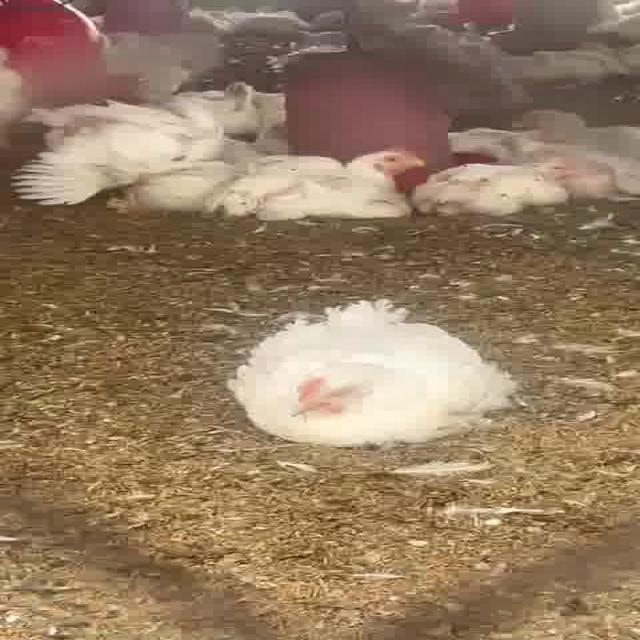AbNormal: (216, 297, 497, 449), (209, 150, 424, 222), (522, 100, 640, 151)
